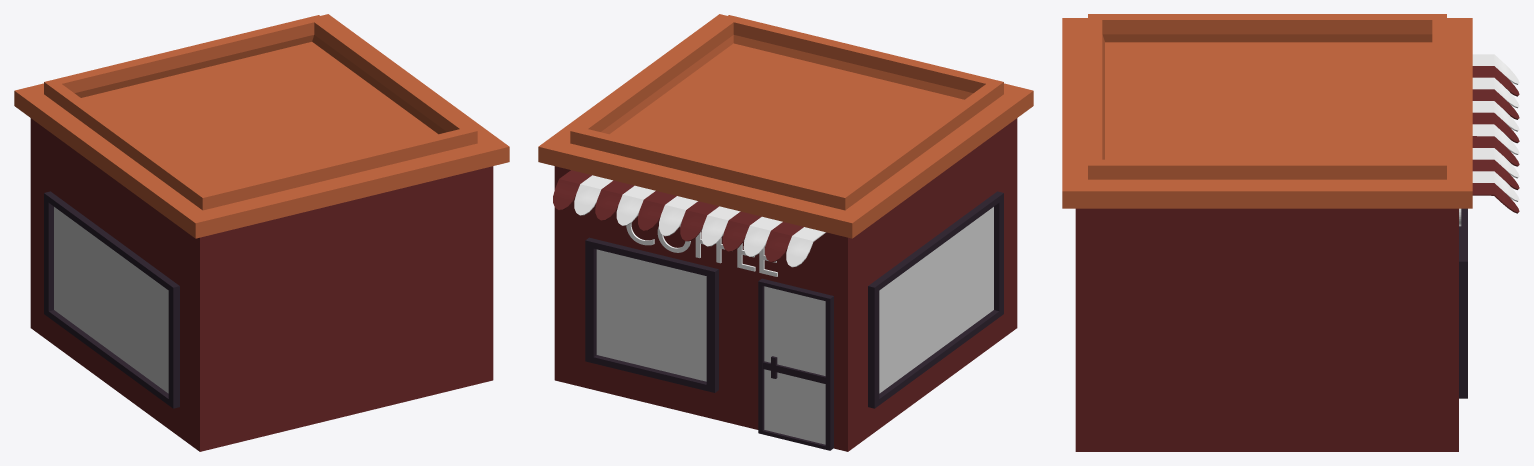
The model's file is coffee-shop.fbx.
The picture shows the model from 3 angles, left to right: view 1: azimuth 30°, elevation 25°; view 2: azimuth 150°, elevation 25°; view 3: azimuth 270°, elevation 25°; orthographic projection. The views are drawn at different scales.
Parts seen in each view (by area): view 1: Cube; view 2: Cube, Circle, Text; view 3: Cube, Circle.
Boxes of the visible parts, left/top/right/bottom form: Cube: left=14, top=14, right=509, bottom=451; Cube: left=538, top=14, right=1033, bottom=451; Circle: left=553, top=170, right=825, bottom=267; Text: left=626, top=213, right=777, bottom=276; Cube: left=1062, top=14, right=1472, bottom=451; Circle: left=1472, top=54, right=1519, bottom=213.
Bounding box in the file's own units: 214 × 161 × 239.
